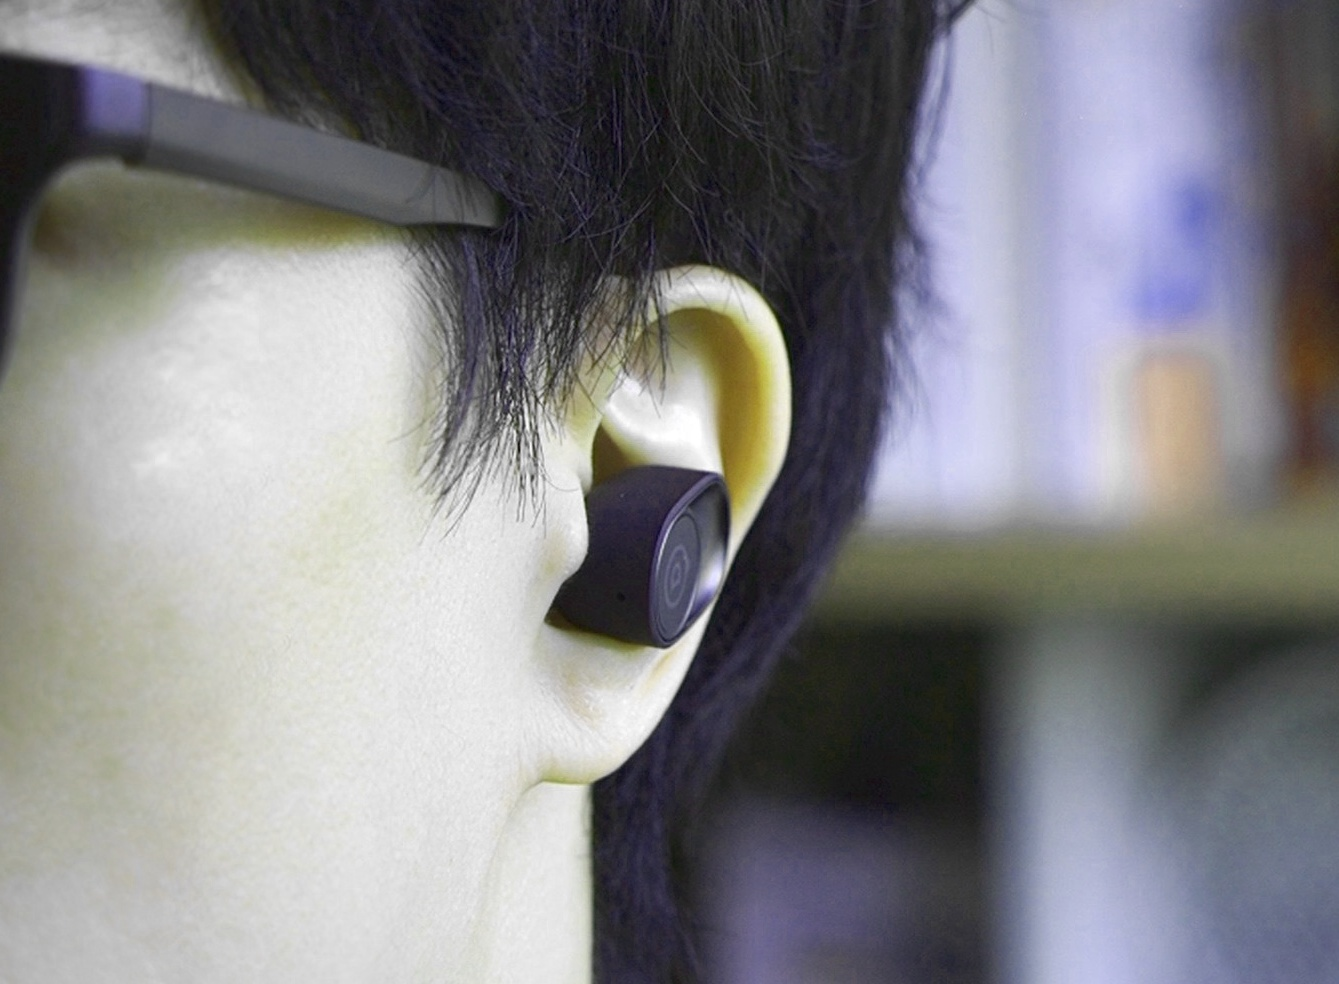earphone: (501, 267, 795, 786)
